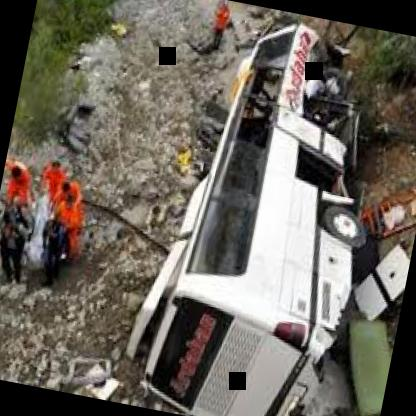accident: (121, 3, 415, 416)
